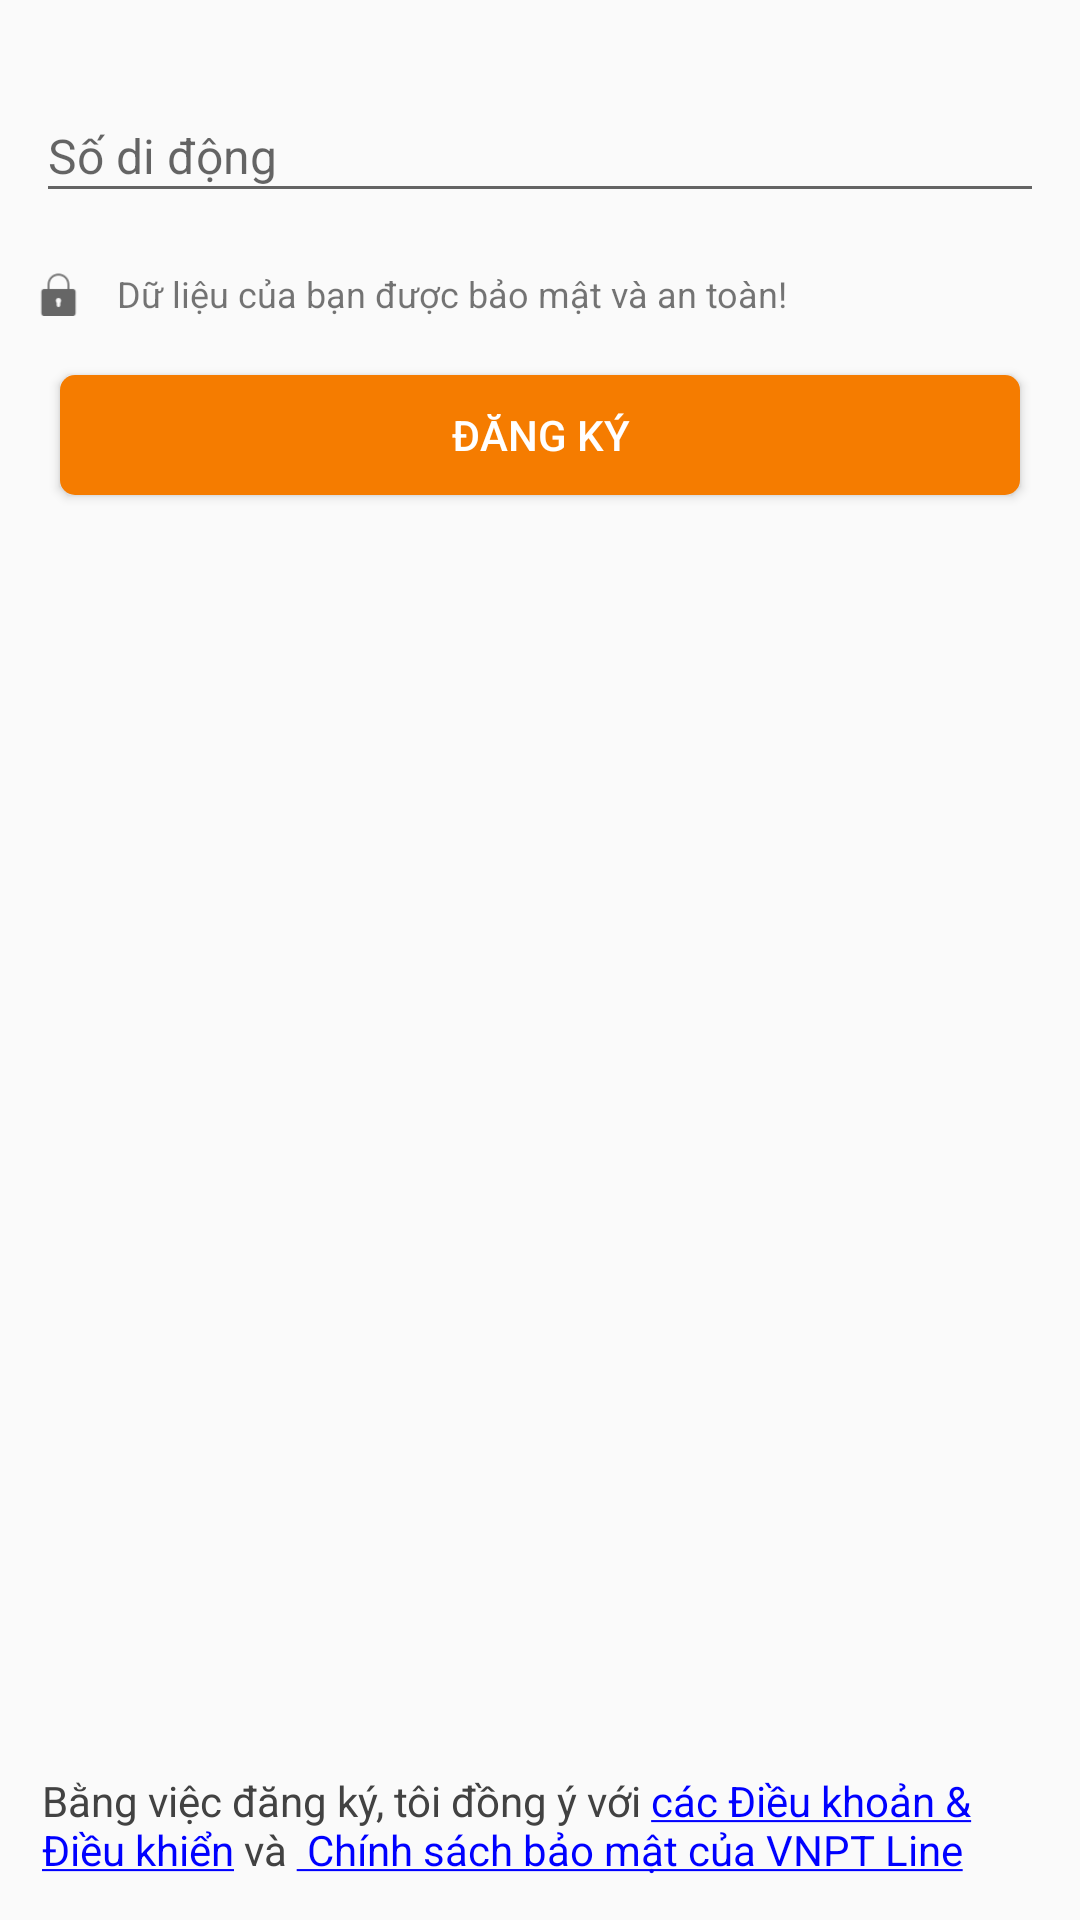

Icon bounding boxes for this 1080px×1920px phone screenshot, format bbox=[x1, y1, x2, y2]:
lock: bbox=[41, 273, 76, 316]
